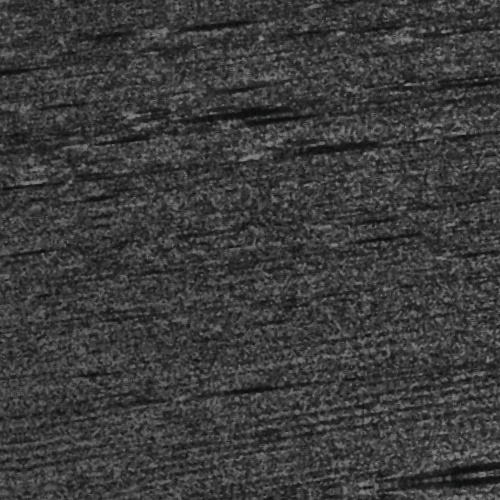object: (339, 484, 402, 495), (230, 144, 261, 163), (133, 106, 206, 113), (165, 17, 206, 24), (214, 115, 245, 120), (323, 249, 364, 252)
shadow: (371, 484, 493, 495), (170, 106, 275, 113), (186, 17, 271, 24), (246, 144, 268, 163), (0, 38, 50, 45), (229, 115, 296, 120), (344, 249, 416, 252)
